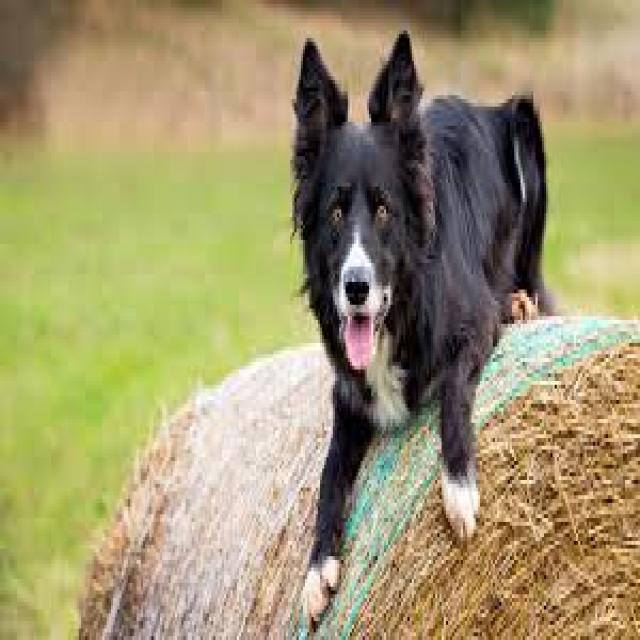ALASKAN_MALAMUTE: (284, 18, 556, 632)
